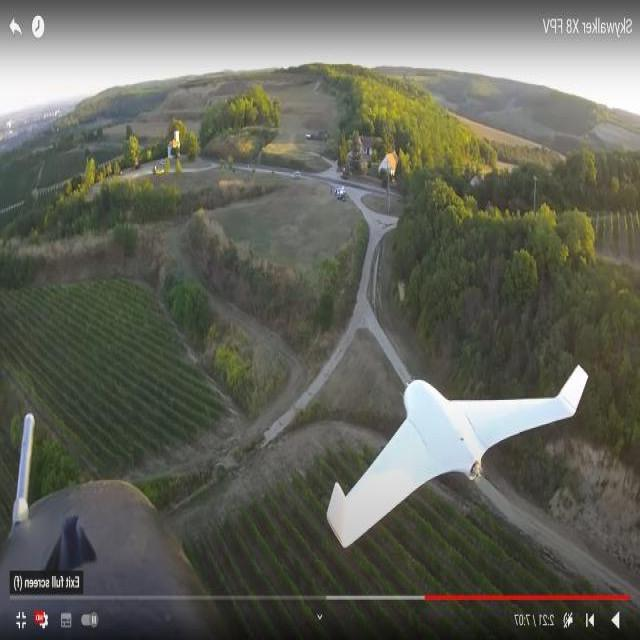iha: (315, 358, 587, 547), (43, 570, 46, 594)
